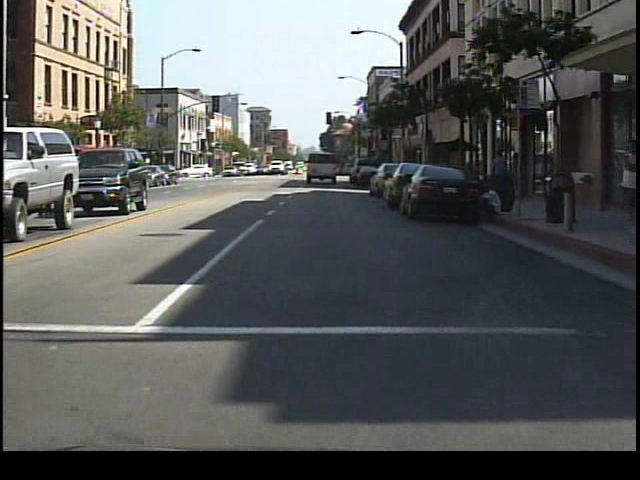person: (487, 143, 513, 206), (504, 149, 528, 204)
